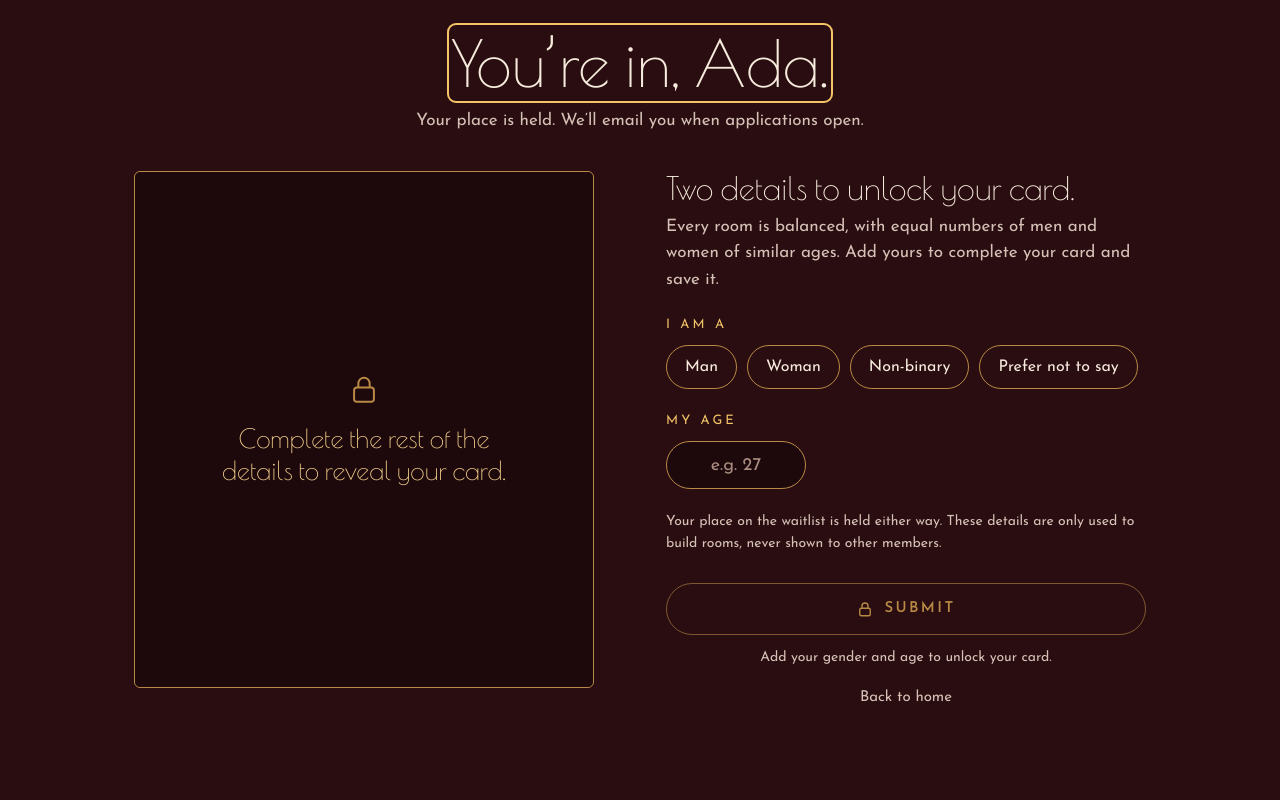
Scenario: ConfirmationView › accepts 200 for an entry that already existed
The width and height of the screenshot is (1280, 800).
Click the button "Woman" at (794,367), box [747,345,840,389]
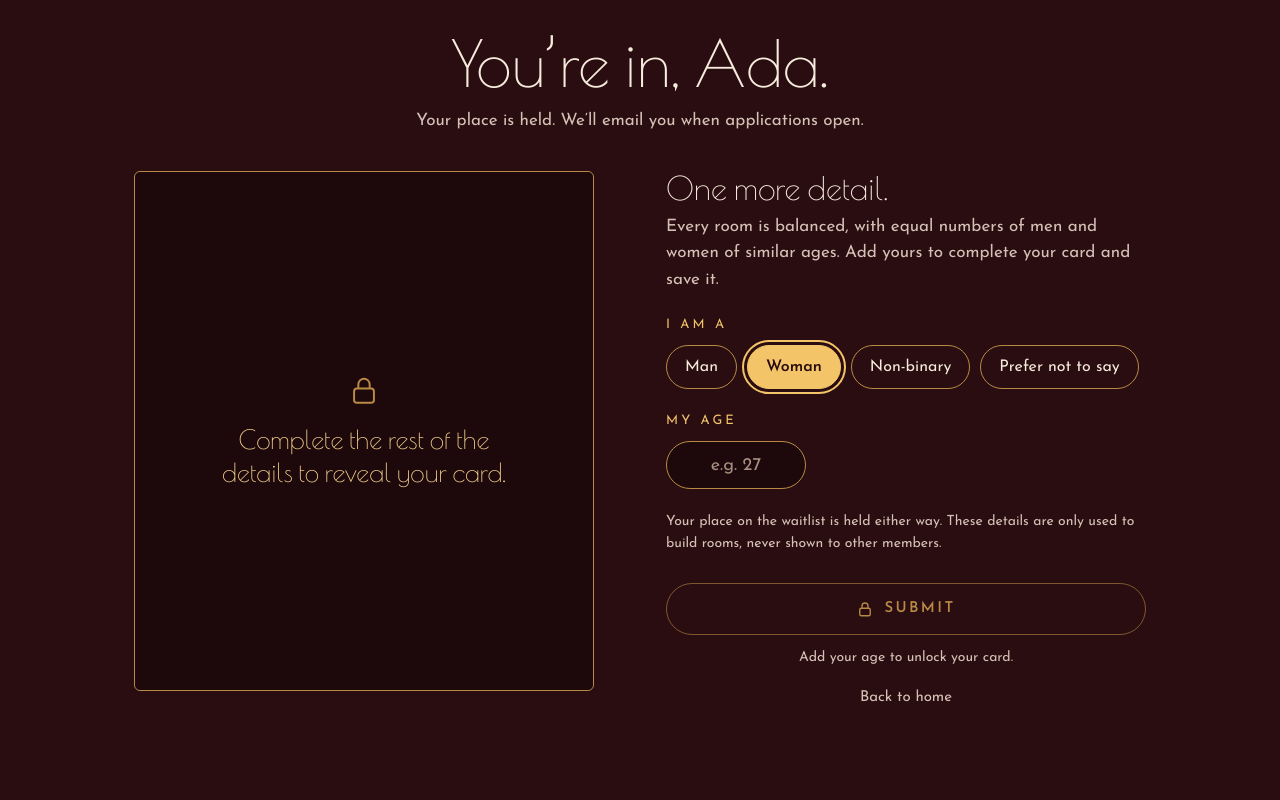
Type "30" into the field labelled "MY AGE" at (736,465), box [666,441,806,489]
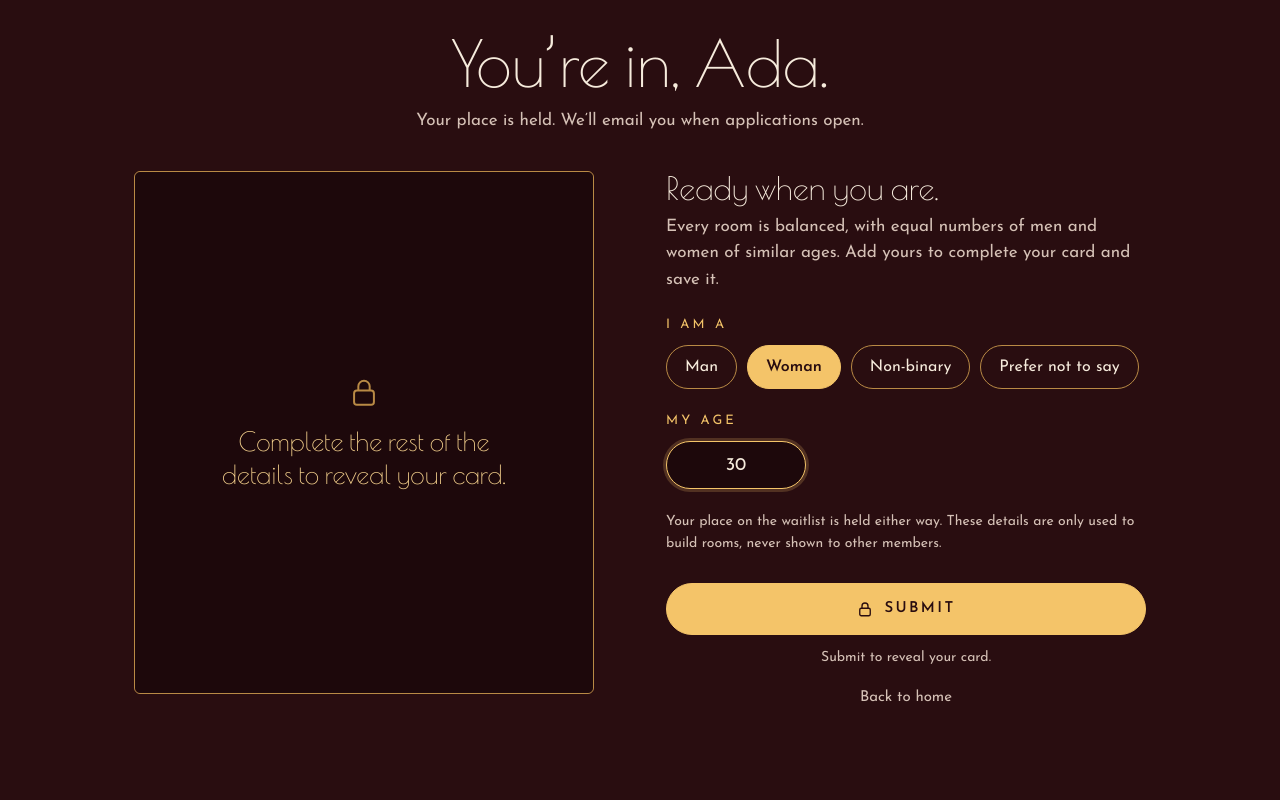
Click the button "Submit" at (906,609), box [666,583,1146,635]
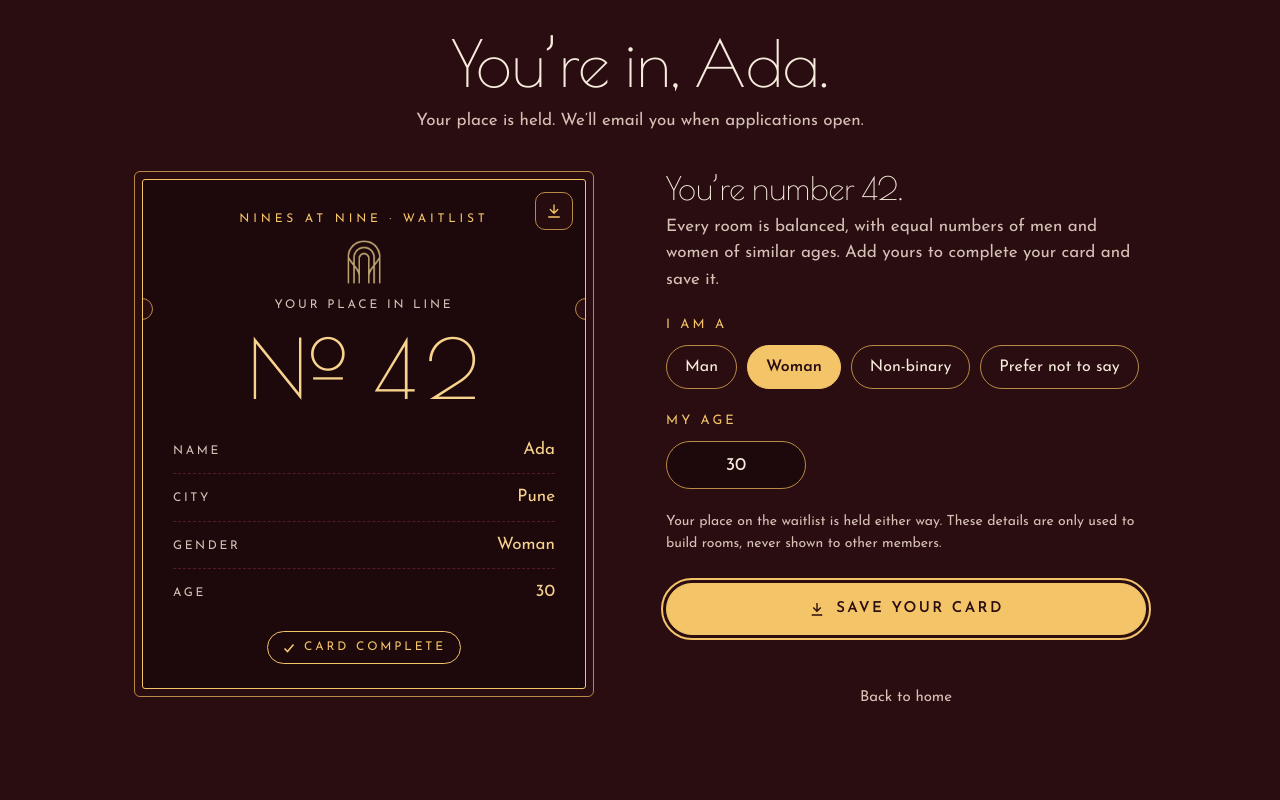
Result: the text "Nº 42" is shown at [247,327,481,409]
Result: the button "Save your card" is shown at [666,583,1146,635]
